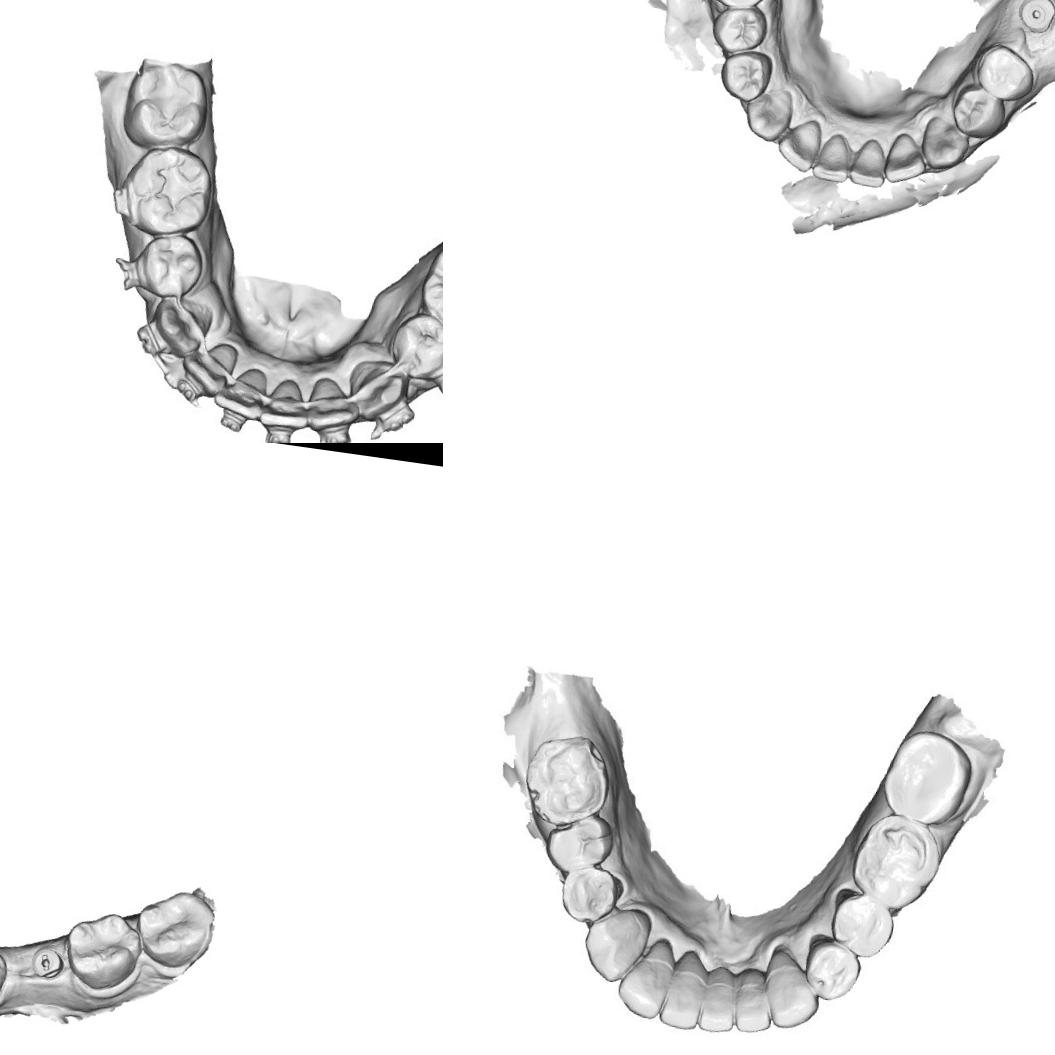canine: (579, 902, 654, 987), (757, 943, 824, 1033), (147, 293, 208, 361), (344, 358, 406, 420), (741, 84, 796, 146), (922, 111, 974, 170)
implant: (1013, 0, 1055, 37)
implant_minus: (27, 944, 66, 984)
incisor: (654, 960, 714, 1035), (615, 944, 672, 1020), (212, 358, 274, 421), (694, 966, 744, 1038), (730, 964, 778, 1038), (180, 337, 240, 394), (306, 380, 364, 438), (774, 115, 824, 176), (880, 129, 931, 188), (262, 379, 312, 435), (809, 129, 855, 185), (846, 134, 891, 190)
molar: (514, 730, 622, 832), (877, 723, 976, 829), (846, 806, 941, 912), (114, 56, 211, 152), (120, 142, 216, 238), (131, 883, 220, 974), (60, 905, 148, 997), (418, 232, 443, 338)
premolar: (540, 808, 620, 880), (825, 888, 902, 962), (798, 930, 867, 1004), (554, 861, 628, 929), (138, 228, 204, 300), (972, 39, 1040, 107), (384, 309, 443, 380), (708, 1, 771, 59), (716, 46, 776, 106), (948, 84, 1009, 142)
